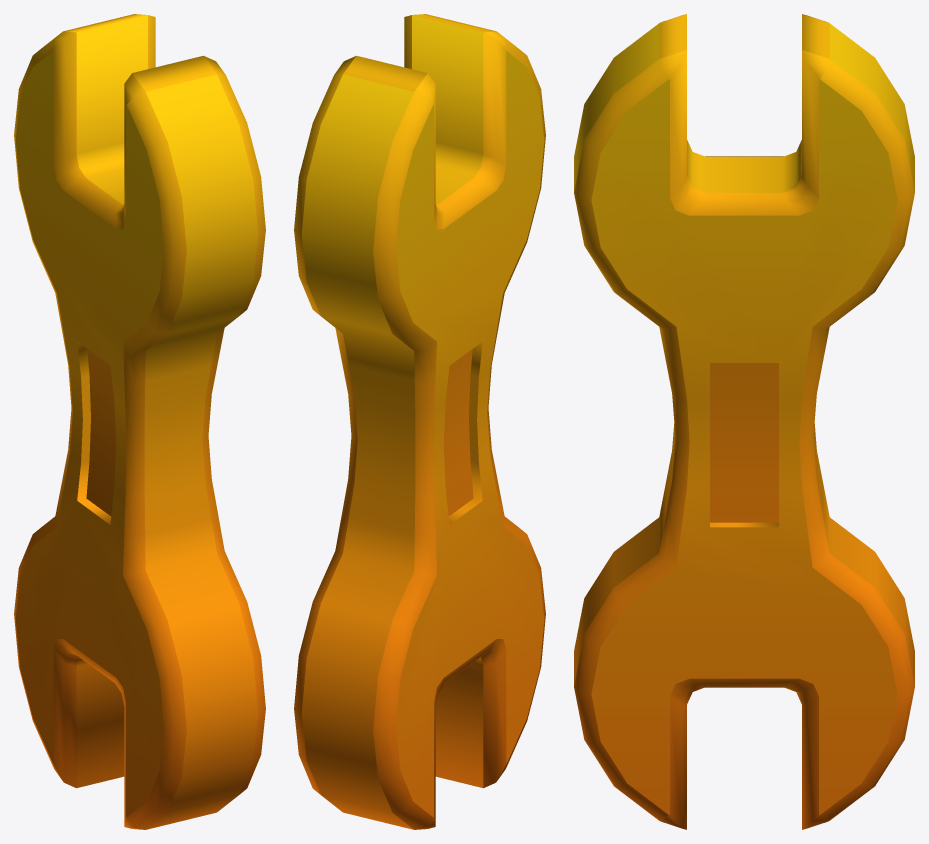
The model's file is Wrench_V1_01.fbx.
The picture shows the model from 3 angles, left to right: view 1: azimuth 30°, elevation 25°; view 2: azimuth 150°, elevation 25°; view 3: azimuth 270°, elevation 25°; orthographic projection. The views are drawn at different scales.
Visible parts, largest first — view 1: Wrench_V1_01; view 2: Wrench_V1_01; view 3: Wrench_V1_01.
Part boxes in pixels (x1=…): Wrench_V1_01: x1=14, y1=14, x2=265, y2=829; Wrench_V1_01: x1=294, y1=14, x2=545, y2=829; Wrench_V1_01: x1=574, y1=14, x2=914, y2=829.
Size of the model in its own units: 5.63 by 40.6 by 16.08.
